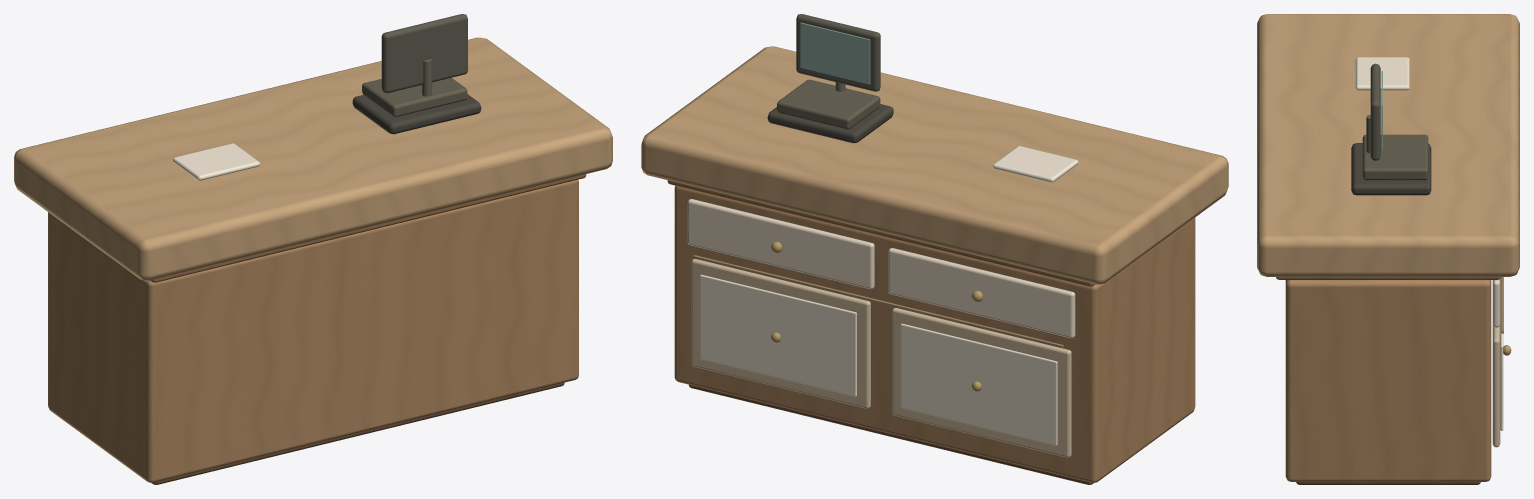
File: counter.glb
The picture shows the model from 3 angles, left to right: view 1: azimuth 30°, elevation 25°; view 2: azimuth 150°, elevation 25°; view 3: azimuth 270°, elevation 25°; orthographic projection. The views are drawn at different scales.
Visible parts, largest first — view 1: counter; view 2: counter; view 3: counter.
Boxes of the visible parts, bbox=[...] form: counter: bbox=[14, 14, 612, 484]; counter: bbox=[641, 14, 1228, 484]; counter: bbox=[1257, 14, 1519, 484].
Size of the model in its own units: 1.9 by 1.37 by 0.92.
Materials: 15 (5 with a texture image).
